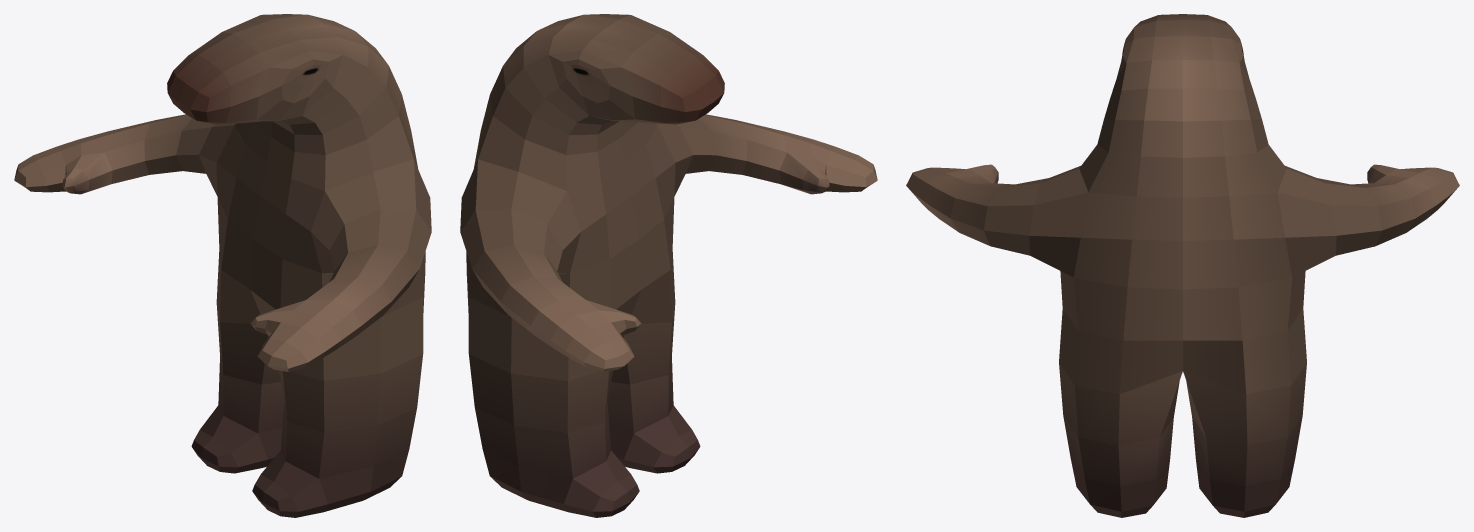
File: druid03.fbx
The picture shows the model from 3 angles, left to right: view 1: azimuth 30°, elevation 25°; view 2: azimuth 150°, elevation 25°; view 3: azimuth 270°, elevation 25°; orthographic projection.
Parts seen in each view (by area): view 1: druid; view 2: druid; view 3: druid.
Part boxes in pixels (x1=…): druid: x1=14, y1=14, x2=431, y2=517; druid: x1=460, y1=14, x2=877, y2=517; druid: x1=906, y1=14, x2=1459, y2=517.
Bounding box in the file's own units: 1.09 × 1.79 × 1.97.
